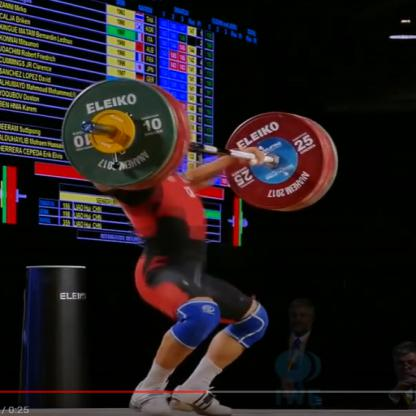Barbell: (43, 70, 199, 207)
